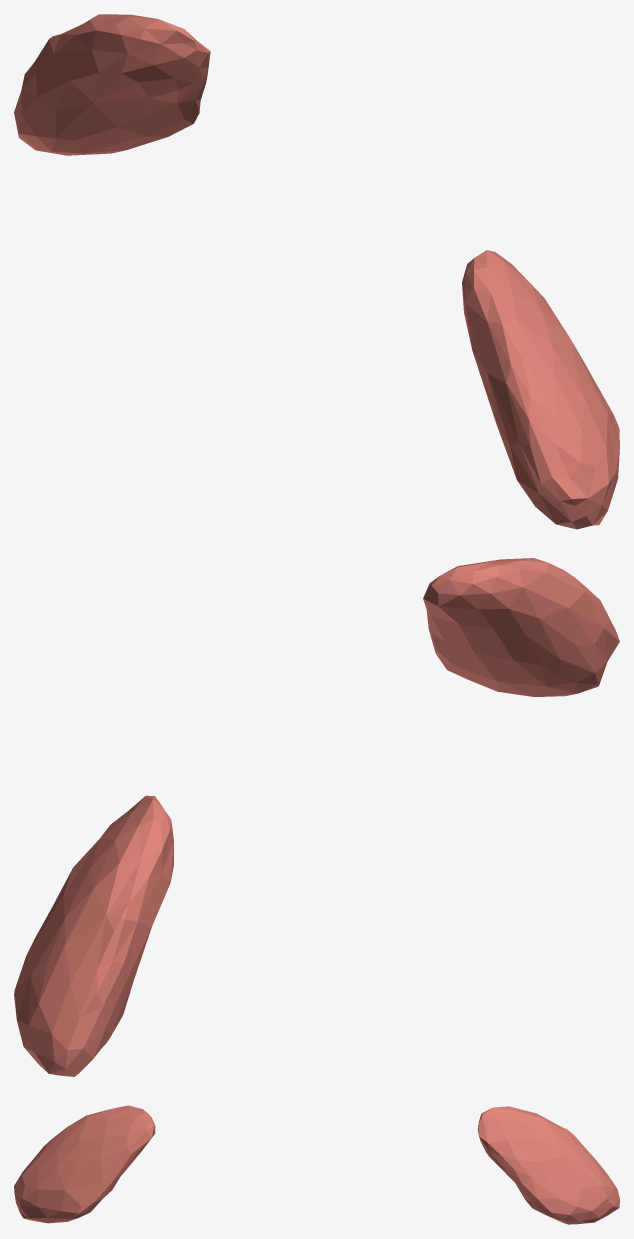
3 renders of one model, top to bottom at view 1: azimuth 30°, elevation 25°; view 2: azimuth 150°, elevation 25°; view 3: azimuth 270°, elevation 25°, orthographic. The views are drawn at different scales.
Parts seen in each view (by area): view 1: 1.obj; view 2: 1.obj; view 3: 1.obj.
Boxes of the visible parts, <box> form: 1.obj: <box>14,14,619,529</box>; 1.obj: <box>14,558,619,1076</box>; 1.obj: <box>14,1105,619,1224</box>.
Size of the model in its own units: 345 by 514 by 2547.
